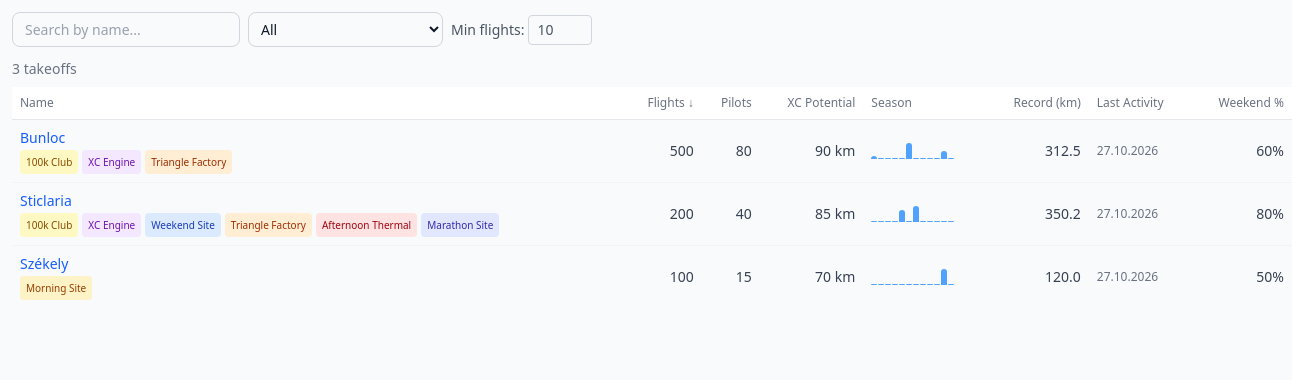
it: TakeoffsTable › shows all takeoffs when minFlights is cleared
// Default is "all" already, just clear minFlights
Clear the number field: (560, 30) [528,14,592,44]
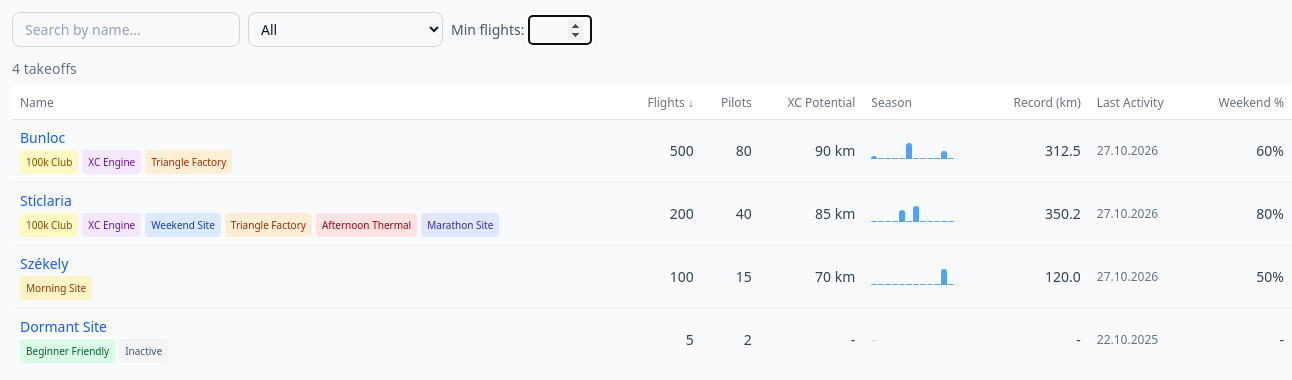
Now the text "4 takeoffs" is shown, box [12,59,77,78]
